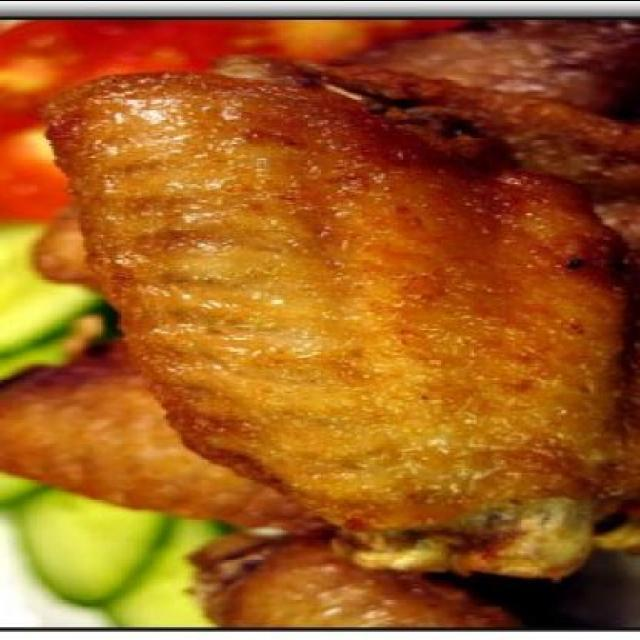Deep fried chicken wing: (44, 73, 638, 535)
